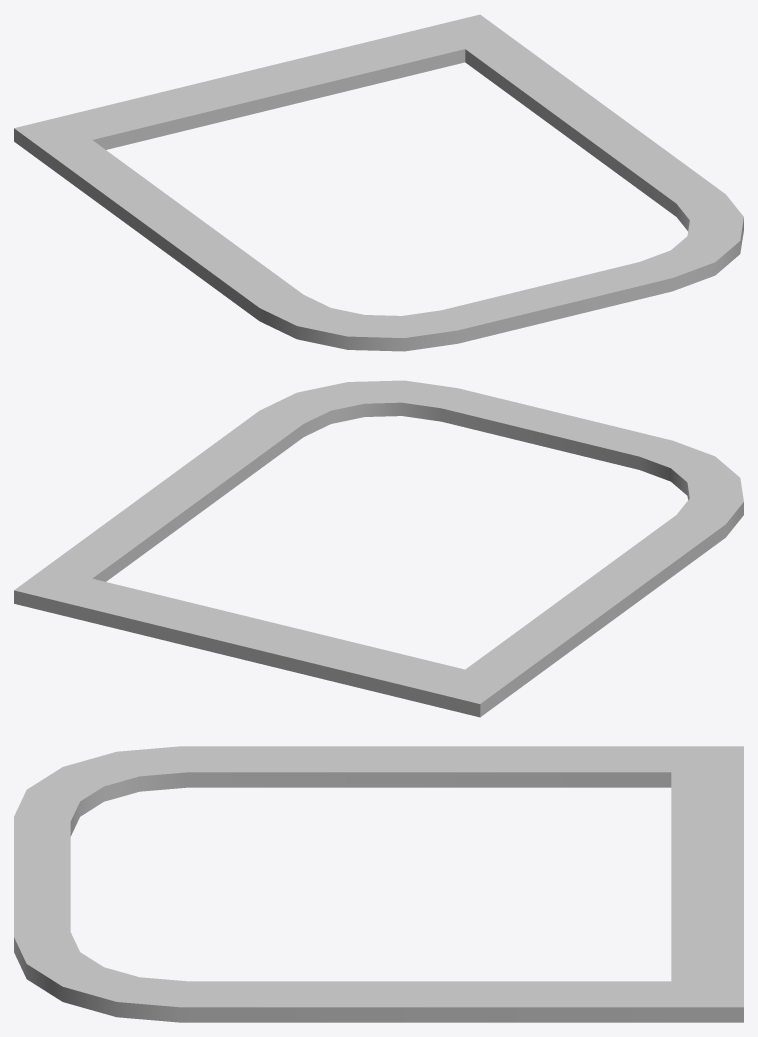
The model's file is Toilet2_C1_02.fbx.
3 views of the same model, one above another, from view 1: azimuth 30°, elevation 25°; view 2: azimuth 150°, elevation 25°; view 3: azimuth 270°, elevation 25° (orthographic). The views are drawn at different scales.
Visible parts, largest first — view 1: Toilet2_C1_02; view 2: Toilet2_C1_02; view 3: Toilet2_C1_02.
Boxes of the visible parts, box(x1,y1,x2,y2) form: Toilet2_C1_02: box(14, 14, 743, 351); Toilet2_C1_02: box(14, 380, 743, 717); Toilet2_C1_02: box(14, 746, 743, 1022).
Size of the model in its own units: 32.21 by 0.8816 by 38.07.
